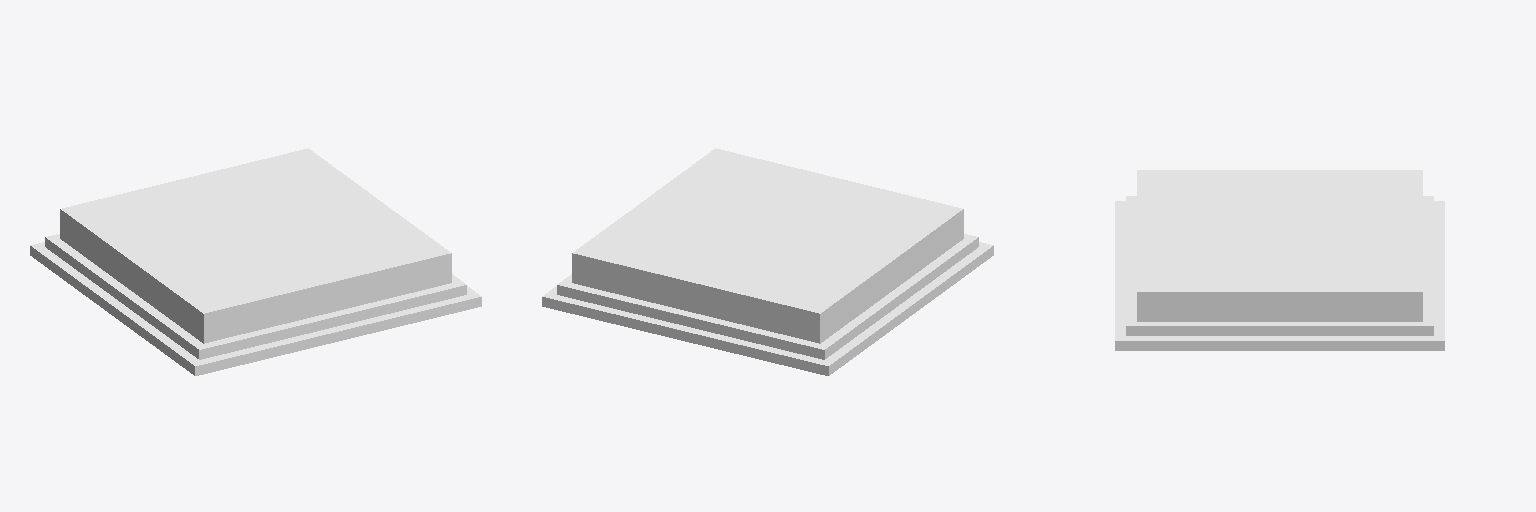
File: mina.obj
The picture shows the model from 3 angles: view 1: azimuth 30°, elevation 25°; view 2: azimuth 150°, elevation 25°; view 3: azimuth 270°, elevation 25°; orthographic projection.
Parts seen in each view (by area): view 1: object 1; view 2: object 1; view 3: object 1.
Boxes of the visible parts, x1,y1,x2,y2 form: object 1: [30, 148, 481, 375]; object 1: [542, 148, 993, 375]; object 1: [1115, 170, 1444, 350].
Size of the model in its own units: 3 by 0.5 by 3.